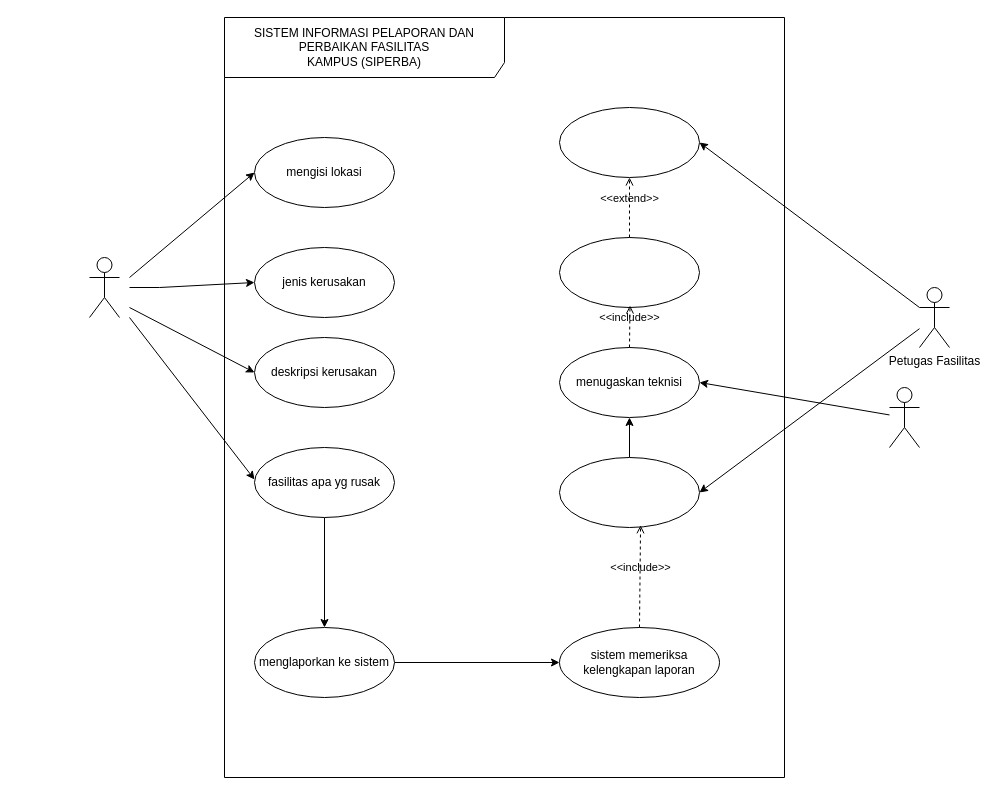
Some shapes in this 997 by 795 pixel diagram are drawn without their labels. The shapes that lost their labels are listed below. From the top down, each one's centre as x and y in pixels, then its label:
the point at 629,142: status laporan berubah sesuai lapangan
the point at 104,287: Pelapor (dosen atau mahasiswa)
the point at 629,272: teknisi mencatat perbaikan yang dilakukan
the point at 904,417: Teknisi
the point at 629,492: menerima laporan
